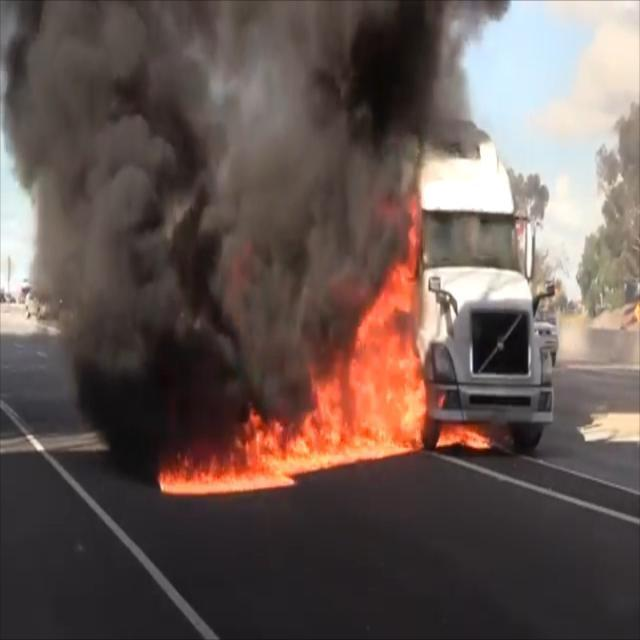fire: (137, 236, 487, 492)
